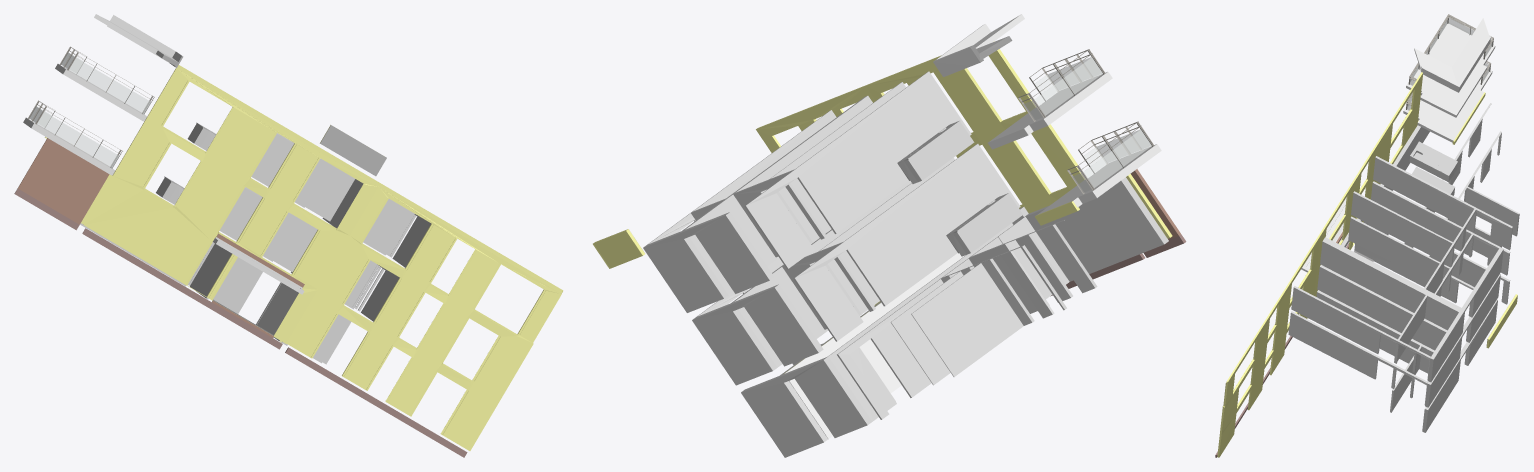
The picture shows the model from 3 angles, left to right: view 1: azimuth 30°, elevation 25°; view 2: azimuth 150°, elevation 25°; view 3: azimuth 270°, elevation 25°; orthographic projection. The views are drawn at different scales.
Parts seen in each view (by area): view 1: mesh; view 2: mesh; view 3: mesh.
Boxes of the visible parts, box(x1,y1,x2,y2) form: mesh: box(14, 14, 563, 457); mesh: box(593, 14, 1186, 457); mesh: box(1215, 14, 1519, 457).
Bounding box in the file's own units: 23.69 × 20.47 × 16.37.
